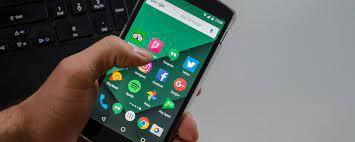Hand: (1, 44, 201, 142)
Smartphone: (78, 0, 239, 142)
